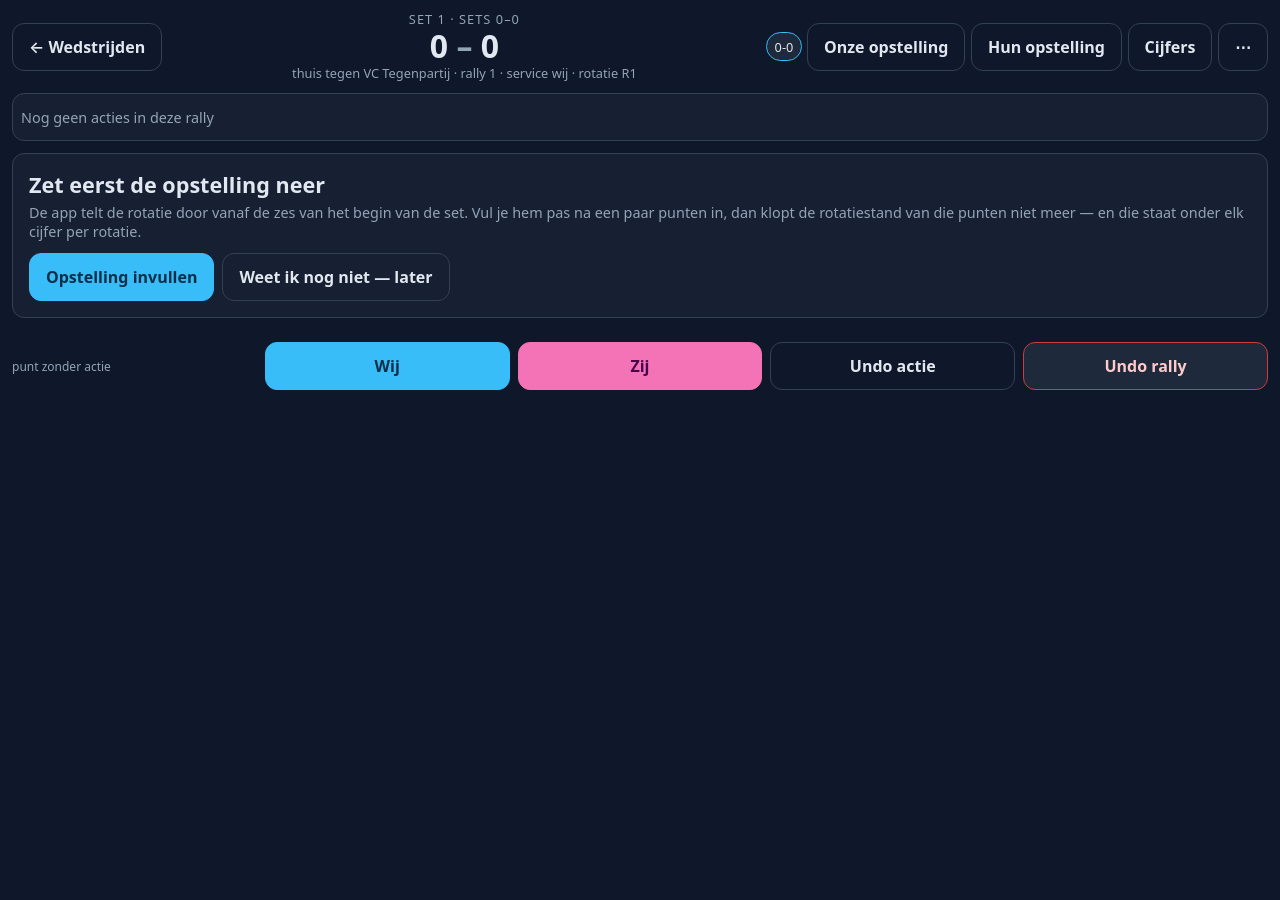
ScoringScreen › weigert een aanval zonder vertrekzone en zegt waarom
Check: the text "Nog geen acties in deze rally" is shown, box [21,108,214,127]
Step 1. Click the button "Weet ik nog niet — later" → x=336, y=277, box [222,253,450,301]
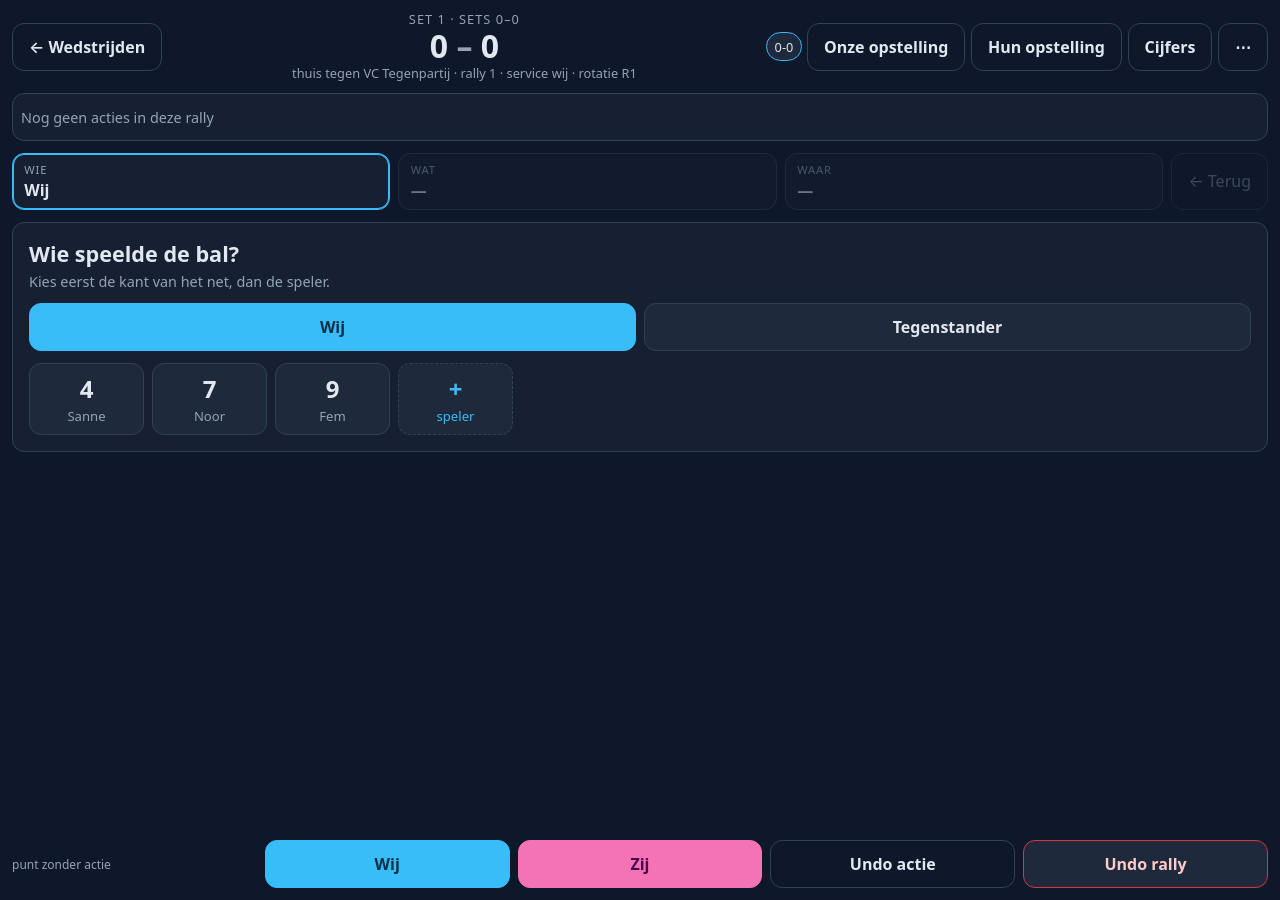
Step 2. Click the button with aria-label "#7 Noor" → x=210, y=399, box [152,363,267,435]
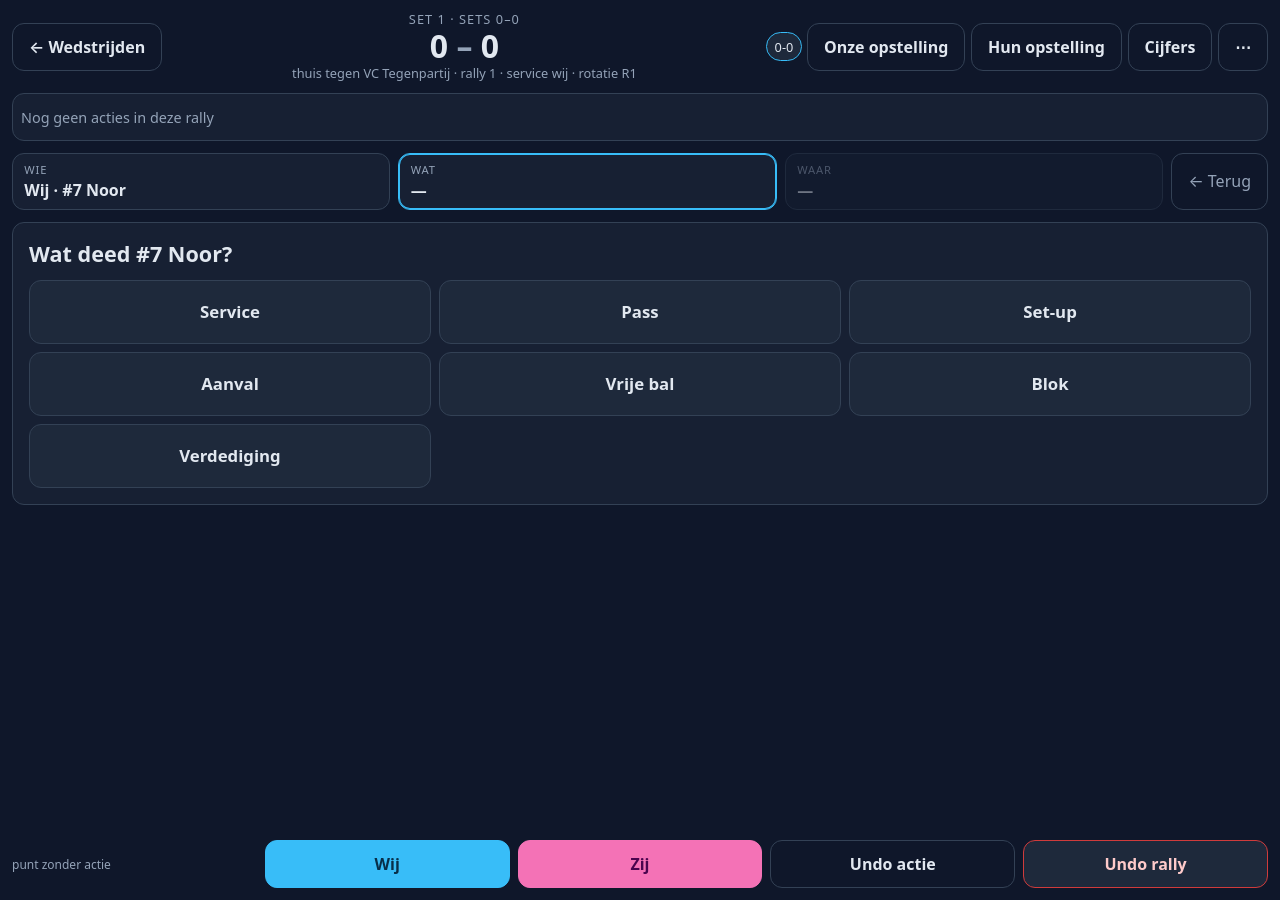
Step 3. Click the button "Aanval" → x=230, y=384, box [29,352,431,416]
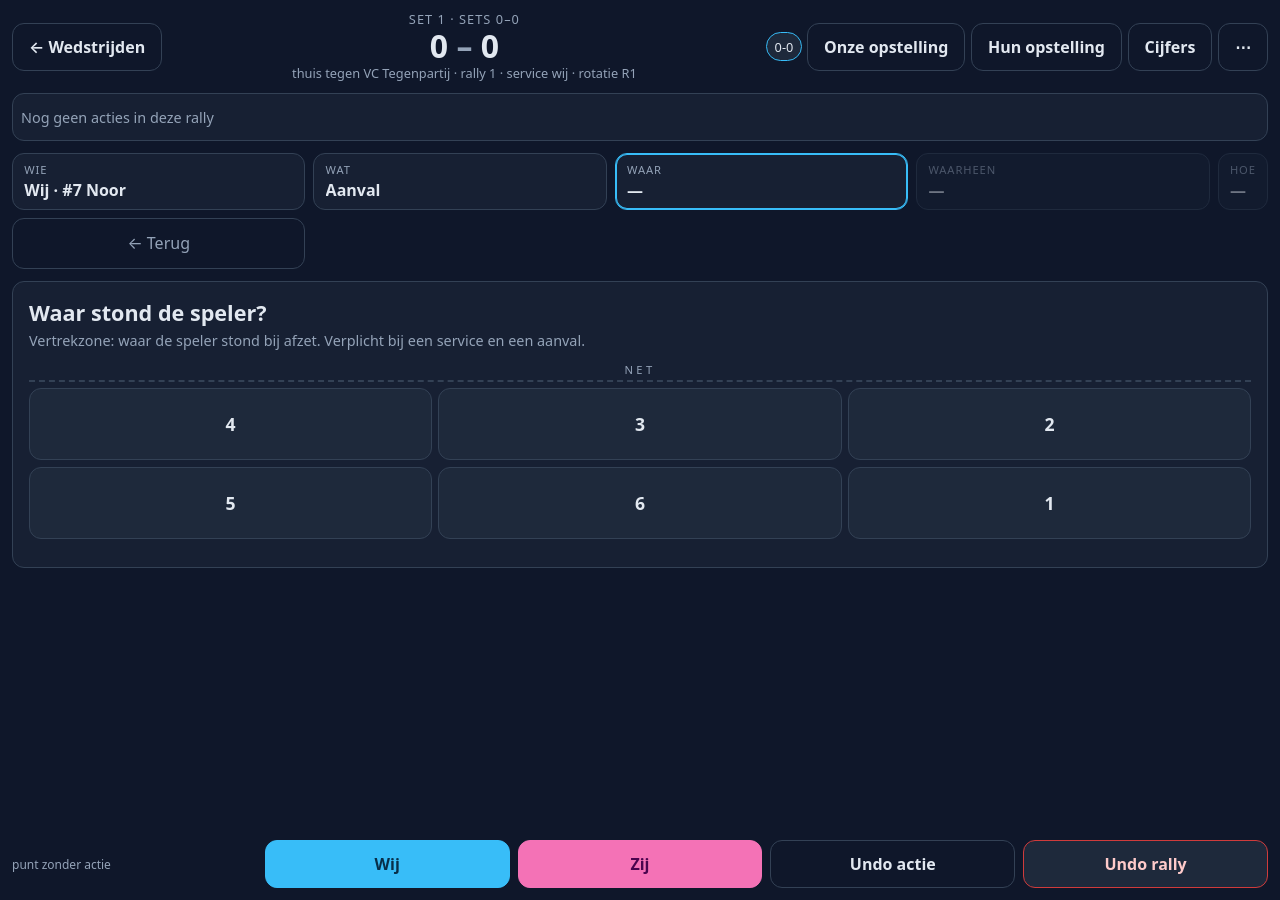
Check: the heading "Waar stond de speler?" is shown, box [29,298,267,327]
